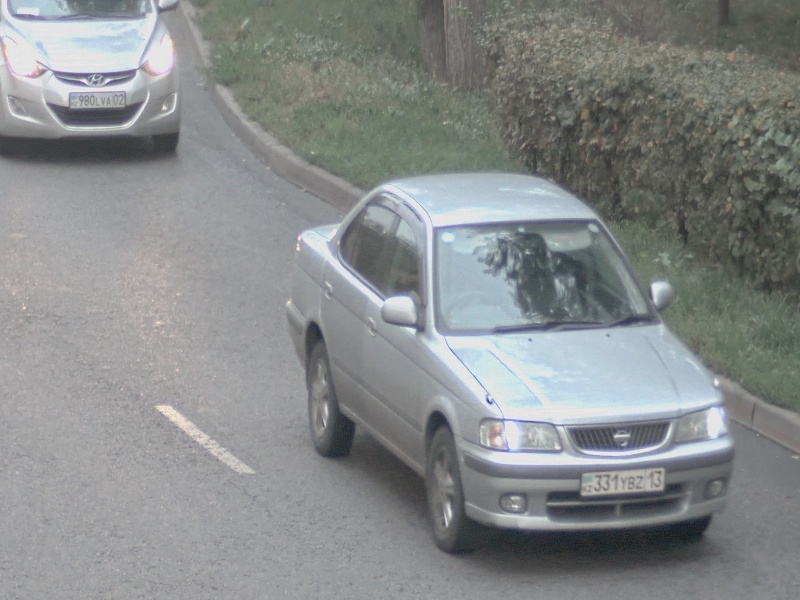plate: (579, 466, 665, 498), (68, 90, 127, 110)
